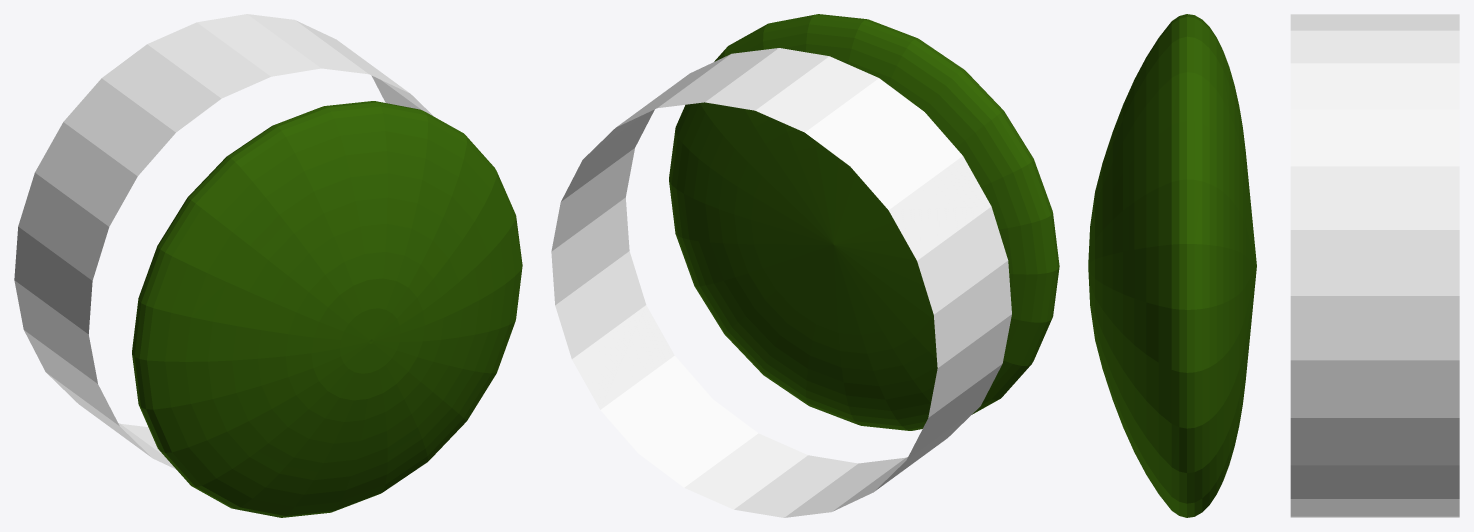
File: HPEo50cm.obj
3 views of the same model, side by side, from view 1: azimuth 30°, elevation 25°; view 2: azimuth 150°, elevation 25°; view 3: azimuth 270°, elevation 25° (orthographic). The views are drawn at different scales.
Size of the model in its own units: 1.5 by 1.5 by 1.1.
